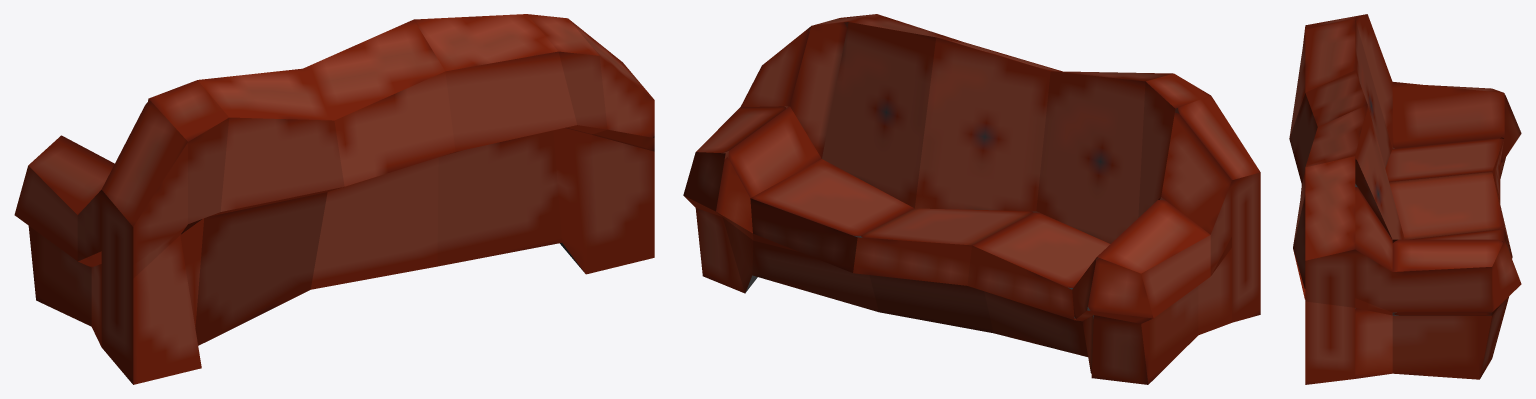
File: sofa.obj
3 views of the same model, side by side, from view 1: azimuth 30°, elevation 25°; view 2: azimuth 150°, elevation 25°; view 3: azimuth 270°, elevation 25° (orthographic). The views are drawn at different scales.
Parts seen in each view (by area): view 1: cuboid; view 2: cuboid; view 3: cuboid.
Boxes of the visible parts, left/top/right/bottom form: cuboid: left=14, top=14, right=654, bottom=384; cuboid: left=683, top=14, right=1260, bottom=384; cuboid: left=1289, top=14, right=1521, bottom=384.
Bounding box in the file's own units: 2.44 × 1.12 × 1.17.
1 material, 1 textured.
